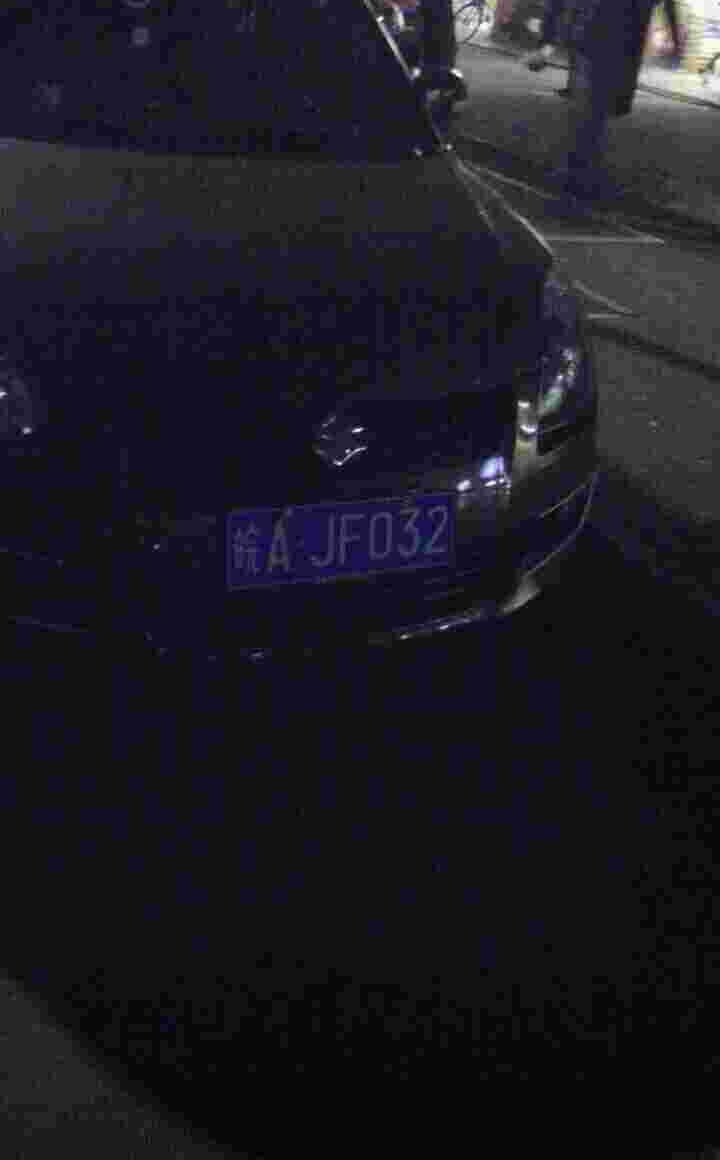car: (220, 493, 469, 583)
